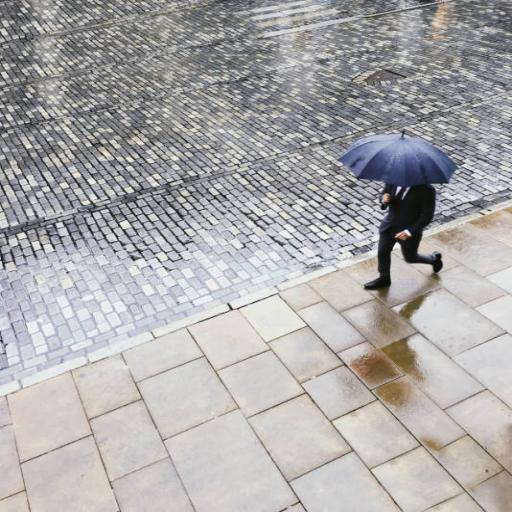guarda_chuva: (337, 130, 458, 209)
